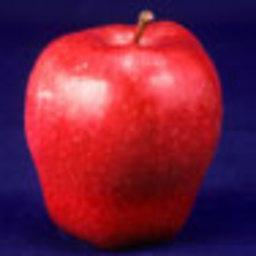apple: (24, 13, 222, 247)
